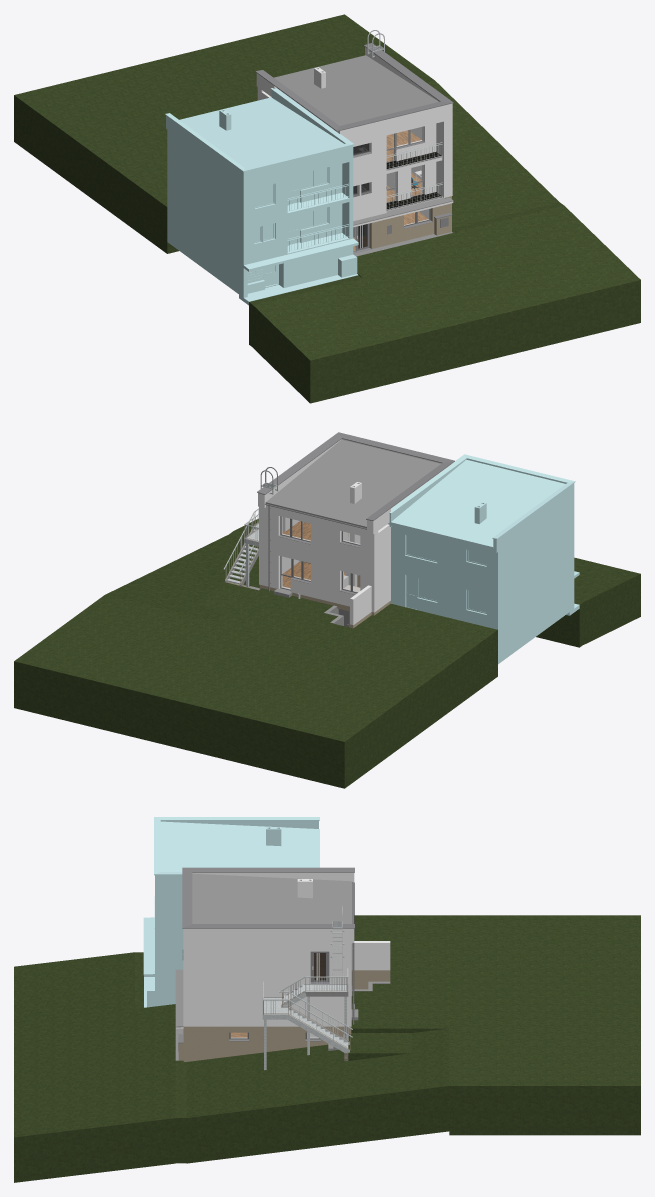
Rendered from vinary4.glb.
The picture shows the model from 3 angles, top to bottom: view 1: azimuth 30°, elevation 25°; view 2: azimuth 150°, elevation 25°; view 3: azimuth 270°, elevation 25°; orthographic projection. The views are drawn at different scales.
Visible parts, largest first — view 1: Trávník - zelený, ZZ25 - Vizualizace 25, Štuk - bílý hrubý, Barva 24 - tmavě šedá, Okna - antracit, Štuk - béžový hrubý, Sklo - čiré, rychlé, Kov - zinek, Parkety - akát, Obklad - černý 30x30; view 2: Trávník - zelený, ZZ25 - Vizualizace 25, Štuk - bílý hrubý, Barva 24 - tmavě šedá, Okna - antracit, Sklo - čiré, rychlé, Kov - zinek, Parkety - akát, Beton - 20, Ploch-bílá; view 3: Trávník - zelený, Štuk - bílý hrubý, ZZ25 - Vizualizace 25, Barva 24 - tmavě šedá, Štuk - béžový hrubý, Kov - zinek, Okna - antracit, Ploch-bílá, Beton - 20.
Boxes of the visible parts, <box> form: Trávník - zelený: <box>14,14,640,403</box>; ZZ25 - Vizualizace 25: <box>165,88,358,305</box>; Štuk - bílý hrubý: <box>256,47,453,236</box>; Barva 24 - tmavě šedá: <box>274,55,453,225</box>; Okna - antracit: <box>255,43,453,251</box>; Štuk - béžový hrubý: <box>370,196,451,248</box>; Sklo - čiré, rychlé: <box>353,127,429,250</box>; Kov - zinek: <box>367,30,442,209</box>; Parkety - akát: <box>353,130,428,250</box>; Obklad - černý 30x30: <box>386,151,441,210</box>; Trávník - zelený: <box>14,518,640,788</box>; ZZ25 - Vizualizace 25: <box>387,454,579,664</box>; Štuk - bílý hrubý: <box>258,439,450,612</box>; Barva 24 - tmavě šedá: <box>265,439,440,527</box>; Okna - antracit: <box>257,432,454,627</box>; Sklo - čiré, rychlé: <box>281,517,359,592</box>; Kov - zinek: <box>223,467,278,586</box>; Parkety - akát: <box>282,521,345,588</box>; Beton - 20: <box>224,522,343,625</box>; Ploch-bílá: <box>350,585,371,625</box>; Trávník - zelený: <box>14,915,640,1182</box>; Štuk - bílý hrubý: <box>175,872,354,1038</box>; ZZ25 - Vizualizace 25: <box>143,817,319,1007</box>; Barva 24 - tmavě šedá: <box>175,873,351,1027</box>; Štuk - béžový hrubý: <box>178,970,390,1061</box>; Kov - zinek: <box>262,906,352,1070</box>; Okna - antracit: <box>178,867,354,1051</box>; Ploch-bílá: <box>351,941,390,970</box>; Beton - 20: <box>175,981,390,1060</box>.
Bounding box in the file's own units: 24.22 × 14.43 × 37.5.
37 materials, 16 textured.
